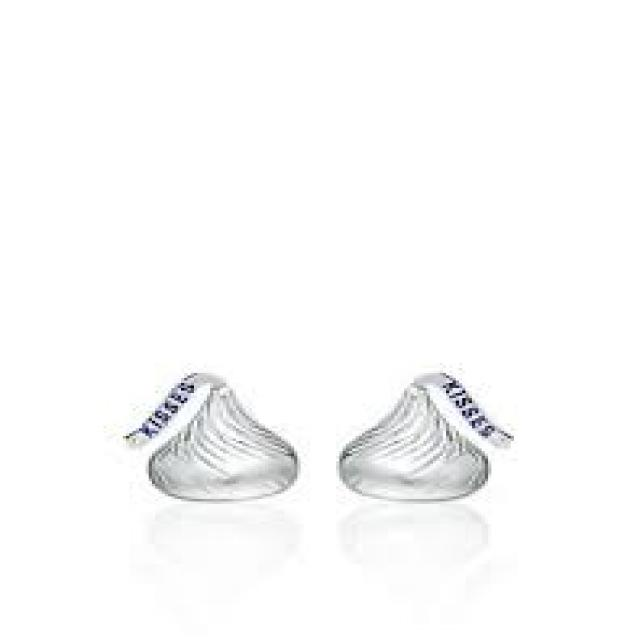kisses: (146, 372, 303, 507), (336, 379, 494, 504)
